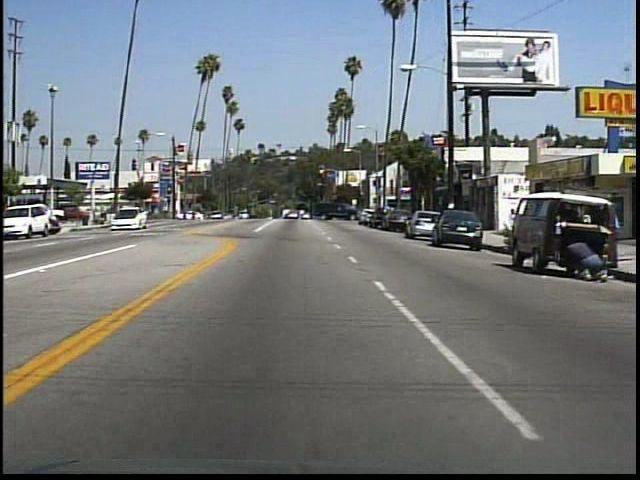person: (561, 236, 607, 286)
